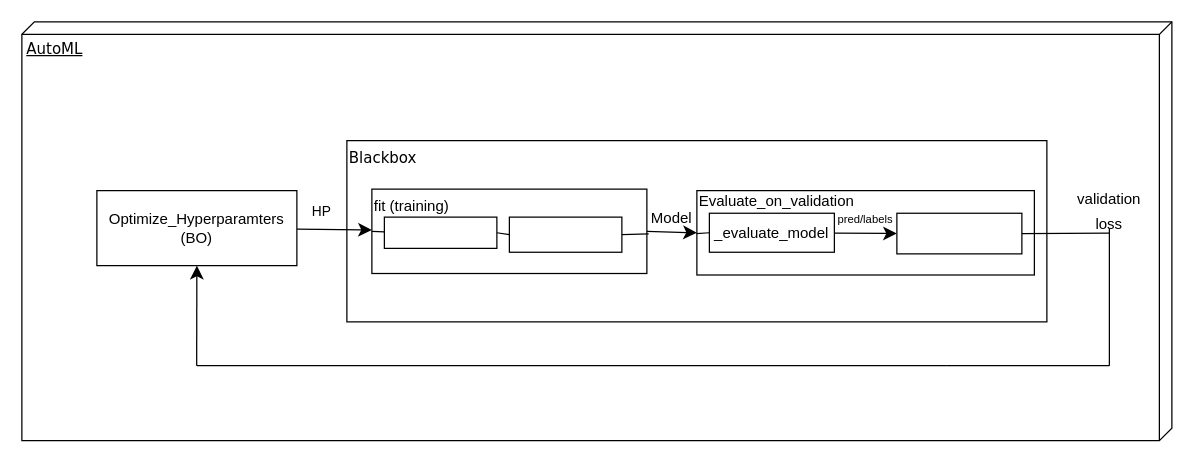
The diagram is 1194 pixels wide and 463 high, and some of its shapes have lost their labels. Here are the shapes that lost their labels. From the top down, the centre of each, then its label:
At (x=440, y=232): "_create_model".
At (x=565, y=234): "_train_model".
At (x=959, y=233): "_calculate_loss".
